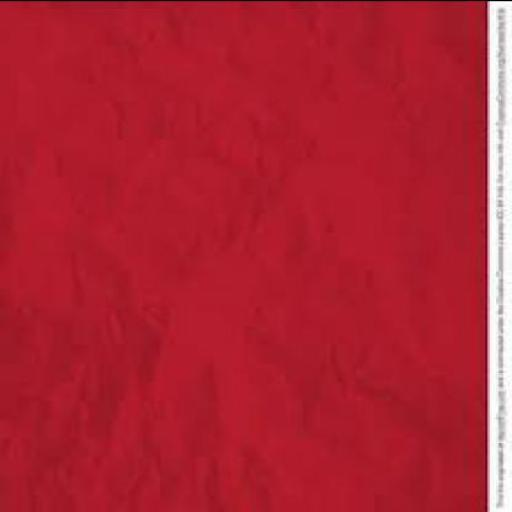paper: (0, 1, 487, 510)
